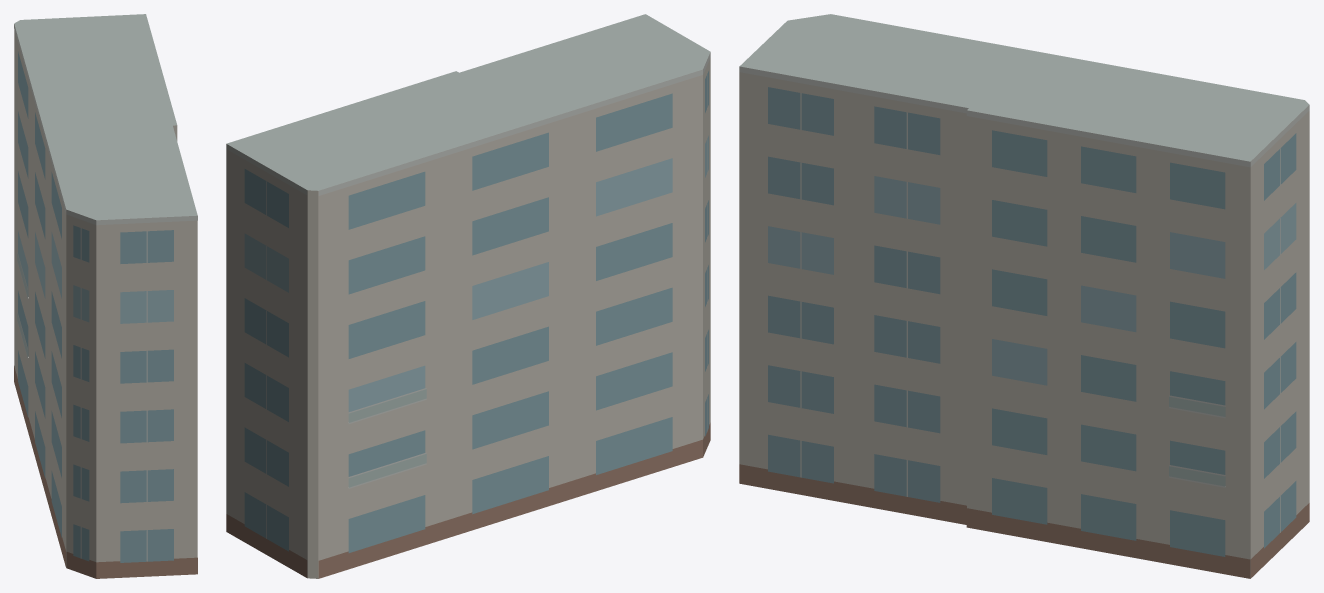
The model's file is survey-upis-32523486.glb.
3 views of the same model, side by side, from view 1: azimuth 30°, elevation 25°; view 2: azimuth 150°, elevation 25°; view 3: azimuth 270°, elevation 25° (orthographic). The views are drawn at different scales.
Parts seen in each view (by area): view 1: survey-upis-32523486.tmp; view 2: survey-upis-32523486.tmp; view 3: survey-upis-32523486.tmp.
Boxes of the visible parts, box(x1,y1,x2,y2) form: survey-upis-32523486.tmp: box(14, 14, 197, 578); survey-upis-32523486.tmp: box(226, 14, 710, 578); survey-upis-32523486.tmp: box(739, 14, 1309, 578).
Size of the model in its own units: 13.49 by 17.75 by 21.99.
